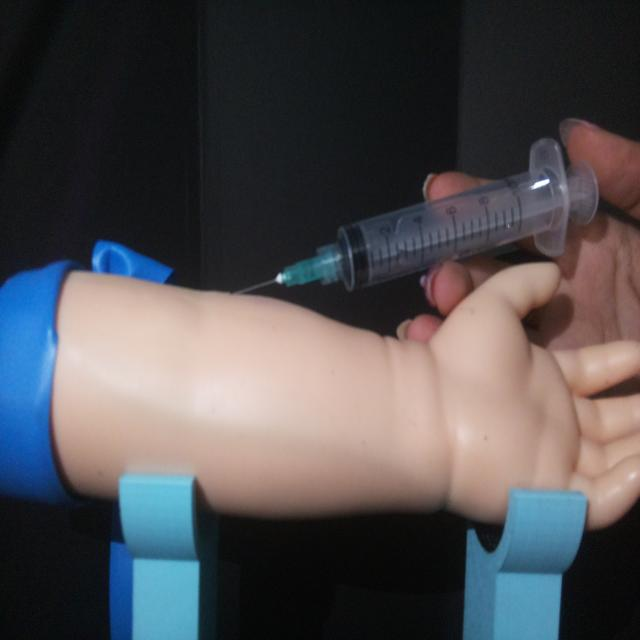23deg: (230, 132, 602, 301)
